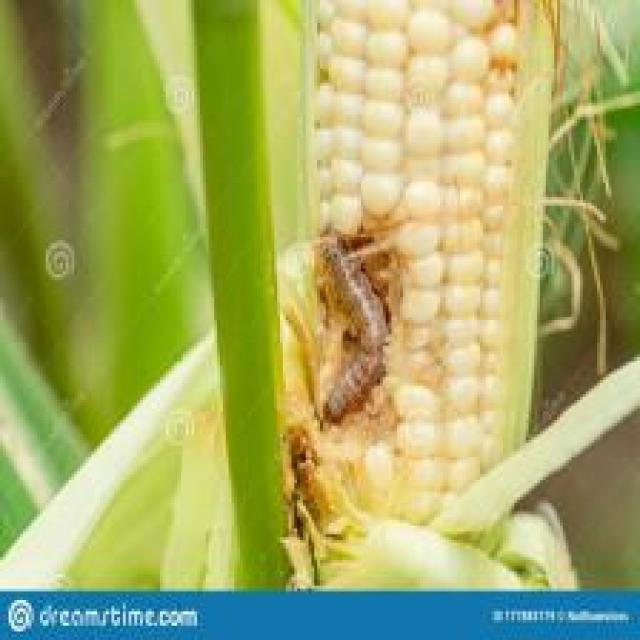Plaga: (316, 215, 396, 441)
